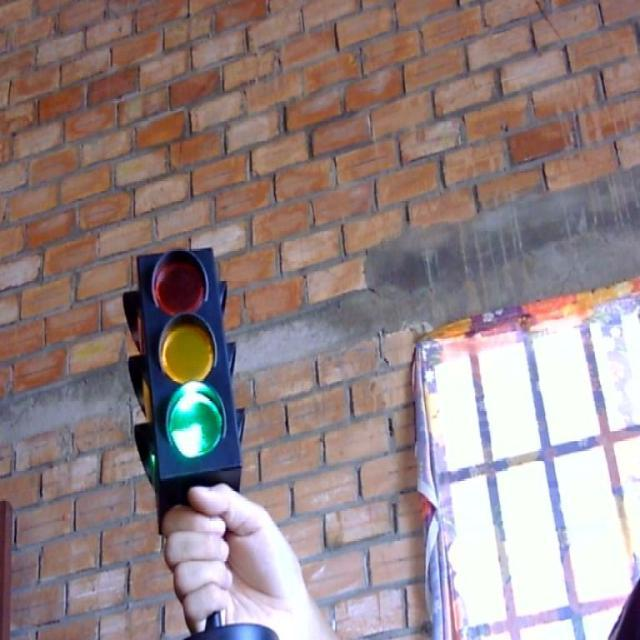green light: (158, 382, 230, 461)
